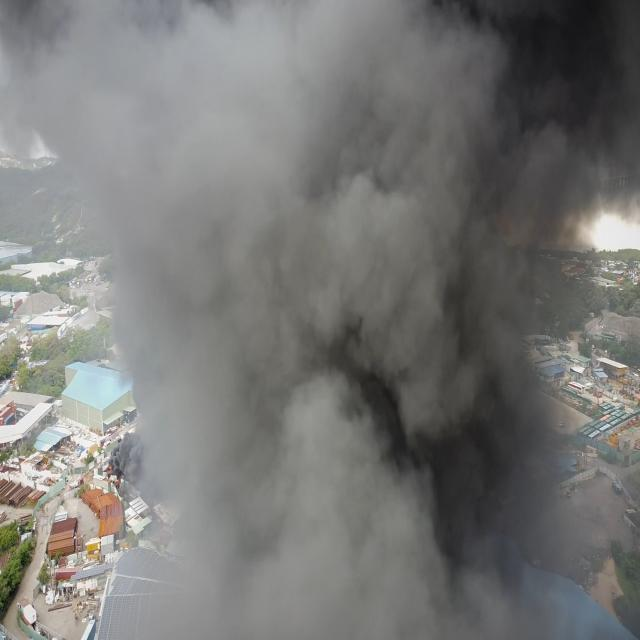Fire: (3, 3, 287, 270)
